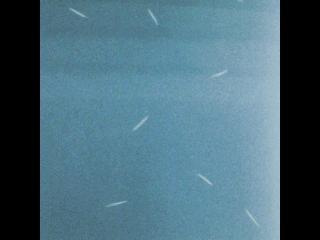scratch: (240, 206, 265, 231), (128, 109, 152, 133), (101, 197, 131, 212), (63, 5, 89, 21), (142, 5, 159, 28), (195, 171, 214, 187), (204, 68, 227, 81)
